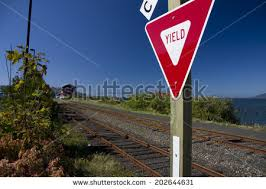yield_sign: (139, 2, 216, 99)
